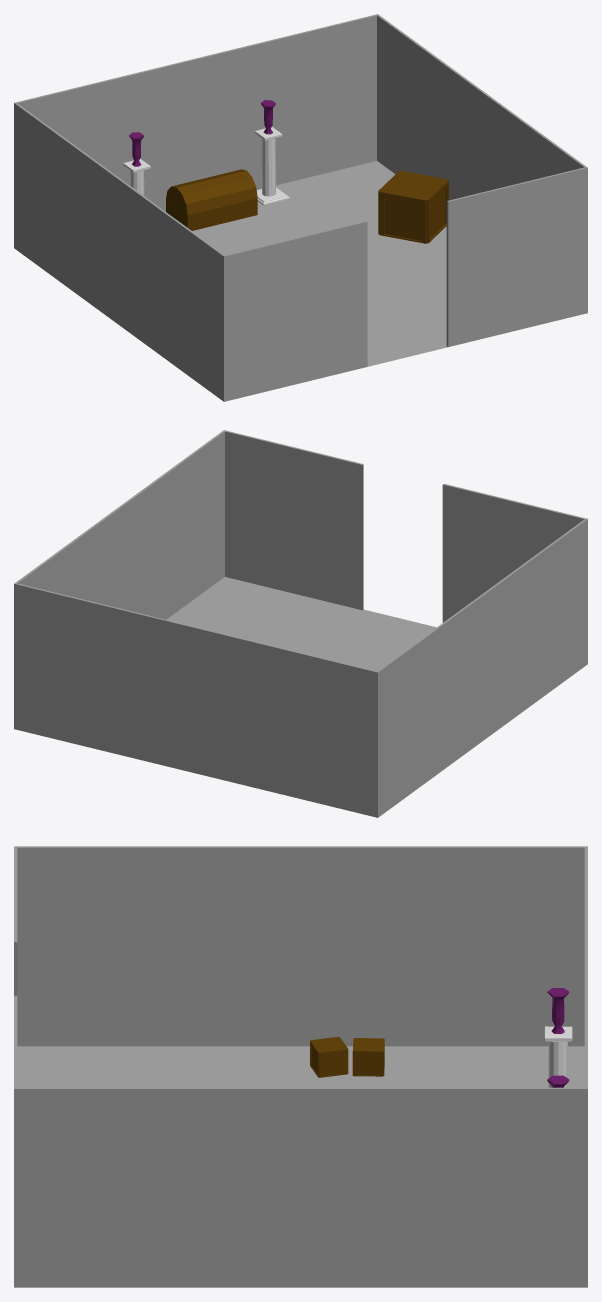
File: colouredTreasure.fbx
The picture shows the model from 3 angles, top to bottom: view 1: azimuth 30°, elevation 25°; view 2: azimuth 150°, elevation 25°; view 3: azimuth 270°, elevation 25°; orthographic projection. The views are drawn at different scales.
Parts seen in each view (by area): view 1: polySurface1650, polySurface1652, polySurface1646; view 2: polySurface1650; view 3: polySurface1650.
Part boxes in pixels (x1,y1,x2,y2): polySurface1650: [14, 14, 587, 401]; polySurface1652: [166, 169, 257, 215]; polySurface1646: [166, 198, 257, 230]; polySurface1650: [14, 430, 587, 817]; polySurface1650: [14, 846, 587, 1287].
Bounding box in the file's own units: 0.9716 × 0.3786 × 0.9711.
